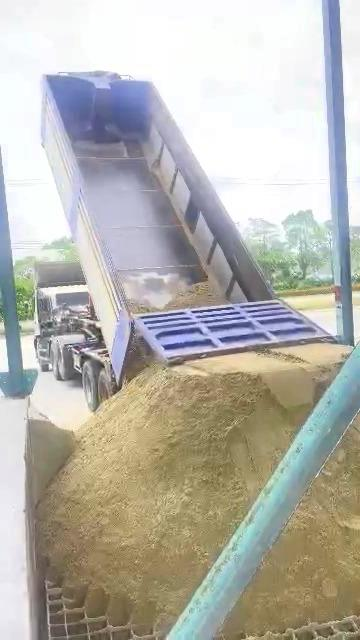sand: (39, 344, 344, 625), (229, 428, 359, 633), (26, 409, 75, 509), (129, 281, 227, 314), (125, 334, 153, 382)
